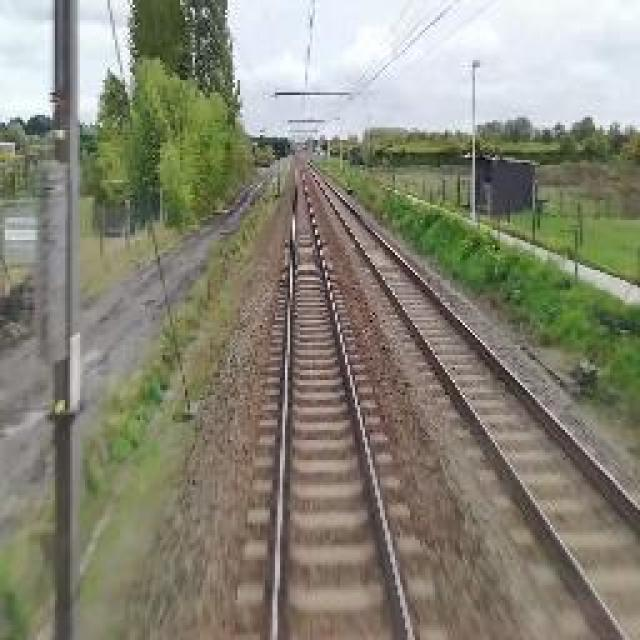rail: (239, 160, 451, 640)
